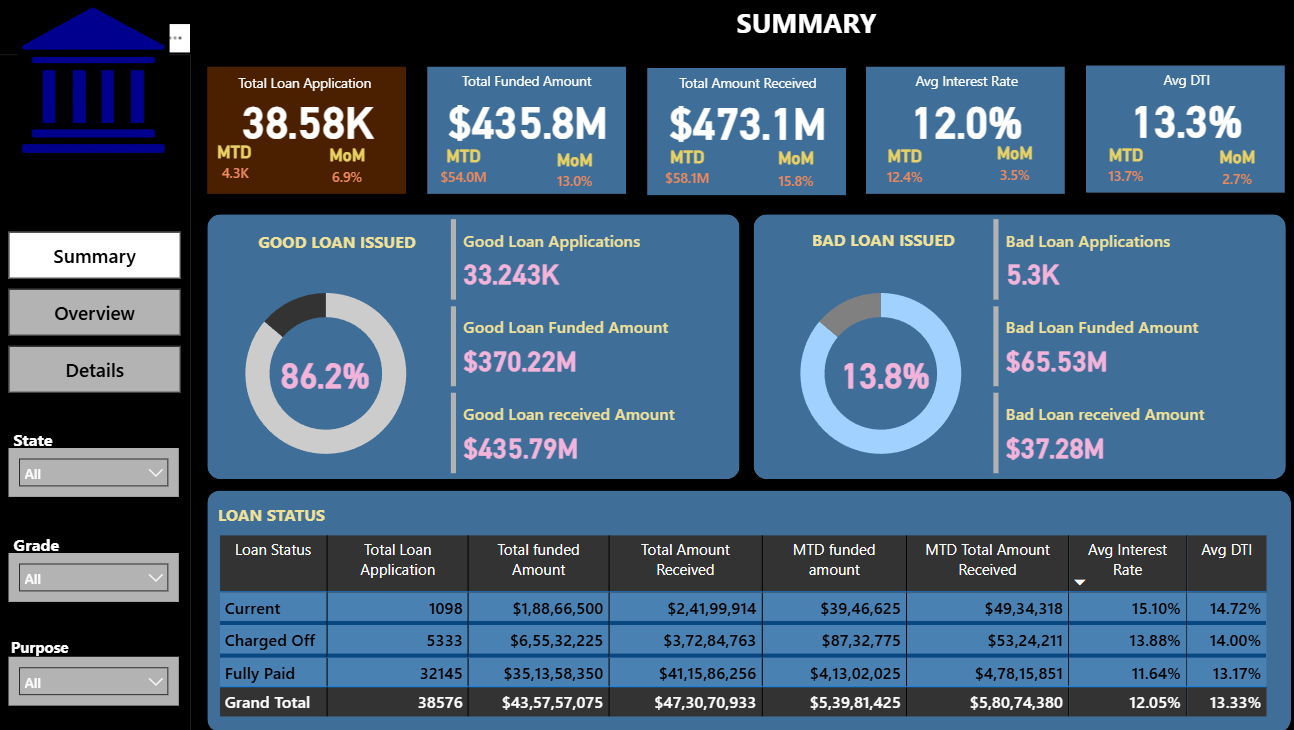

The dashboard page shown, as its layout file describes it:
{"tool":"powerbi","page":{"name":"Summary ","canvas":[1280,720],"ordinal":0},"visuals":[{"type":"shape","box":[0,0,1279.8,55],"z":0},{"type":"card","fields":{"Values":["financial_loan.Avg DTI"]},"box":[1071.1,89.6,195.1,55.2],"z":0,"group":"g4"},{"type":"card","fields":{"Values":["financial_loan.Avg Interest Rate"]},"box":[855.6,90.8,195.1,55.2],"z":0,"group":"g6"},{"type":"card","fields":{"Values":["financial_loan.Total Amount Received"]},"box":[640.1,92,195.1,55.2],"z":0,"group":"g7"},{"type":"slicer","fields":{"Values":["financial_loan.address_state"]},"box":[12.3,442.1,166.9,47.9],"z":0,"group":"g11"},{"type":"slicer","fields":{"Values":["financial_loan.grade"]},"box":[12.3,544.3,166.9,47.9],"z":0,"group":"g12"},{"type":"slicer","fields":{"Values":["financial_loan.purpose"]},"box":[12.3,646.6,166.9,47.9],"z":0,"group":"g13"},{"type":"textbox","box":[12.3,417.6,58.9,39.3],"z":1000,"group":"g11"},{"type":"textbox","box":[12.3,519.8,58.9,39.3],"z":1000,"group":"g12"},{"type":"slicer","fields":{"Values":["financial_loan.address_state"]},"box":[12.3,547.2,166.9,47.9],"z":1000},{"type":"textbox","box":[9.5,622,72.4,39.3],"z":1000,"group":"g13"},{"type":"shape","box":[1069.9,66.3,195.1,125.2],"z":2000,"group":"g10"},{"type":"textbox","box":[1071.1,66.3,195.1,31.9],"z":2000,"group":"g4"},{"type":"shape","box":[423.4,67.5,195.1,125.2],"z":2000,"group":"g2"},{"type":"shape","box":[854.4,67.5,195.1,125.2],"z":2000,"group":"g9"},{"type":"textbox","box":[855.3,67.5,195.1,31.9],"z":2000,"group":"g6"},{"type":"shape","box":[207.8,67.6,195.1,125.2],"z":2000,"group":"g3"},{"type":"shape","box":[638.9,68.7,195.1,125.2],"z":2000,"group":"g8"},{"type":"textbox","box":[639.5,68.7,195.1,31.9],"z":2000,"group":"g7"},{"type":"textbox","box":[12.3,522.7,58.9,39.3],"z":2000},{"type":"card","fields":{"Values":["financial_loan.Good Loan percentage"]},"box":[29.4,220.9,128.8,62.6],"z":3000},{"type":"shape","box":[0,55.2,191.4,665],"z":4000},{"type":"card","fields":{"Values":["financial_loan.Total funded Amount"]},"box":[424.6,90.8,195.1,55.2],"z":4000,"group":"g5"},{"type":"card","fields":{"Values":["financial_loan.Total Loan Application"]},"box":[209.1,90.9,195.1,55.2],"z":4000,"group":"g3"},{"type":"card","title":"MTD","fields":{"Values":["financial_loan.Avg MTD DTI"]},"box":[1081,143.7,56.4,47.9],"z":4000,"group":"g4"},{"type":"card","title":"MTD","fields":{"Values":["financial_loan.MTD  Avg Int Rate"]},"box":[863.7,144.9,56.4,47.9],"z":4000,"group":"g6"},{"type":"card","title":"MTD","fields":{"Values":["financial_loan.MTD Total Amount Received"]},"box":[648.8,146.1,56.4,47.9],"z":4000,"group":"g7"},{"type":"textbox","box":[402.5,1.2,500.6,54],"z":5000},{"type":"textbox","box":[423.7,67.5,195.1,31.9],"z":5000,"group":"g5"},{"type":"textbox","box":[203.9,69.4,198.8,31.9],"z":5000,"group":"g3"},{"type":"group","id":"g1","title":"Group 1","box":[203.9,67.6,200.3,125.2],"z":6000},{"type":"card","title":"MTD","fields":{"Values":["financial_loan.MTD Loan Applications"]},"box":[212.9,141.8,45.4,47.9],"z":6000,"group":"g3"},{"type":"card","title":"MoM","fields":{"Values":["financial_loan.MoM Avg Int Rate"]},"box":[974.8,141.9,51.5,49.1],"z":6000,"group":"g6"},{"type":"card","title":"MTD","fields":{"Values":["financial_loan.MTD funded amount"]},"box":[431.5,144.9,56.4,47.9],"z":6000,"group":"g5"},{"type":"card","title":"MoM","fields":{"Values":["financial_loan.MoM Avg DTI"]},"box":[1192.1,145.6,51.5,49.1],"z":6000,"group":"g4"},{"type":"card","title":"MoM","fields":{"Values":["financial_loan.MoM total received amount"]},"box":[759.9,147,49.1,44.2],"z":6000,"group":"g7"},{"type":"group","id":"g2","title":"Group 2","box":[423.4,67.5,196.3,128.2],"z":7000},{"type":"card","title":"MoM","fields":{"Values":["financial_loan.MoM Loan Application"]},"box":[313,143.7,63.8,44.2],"z":7000,"group":"g3"},{"type":"card","title":"MoM","fields":{"Values":["financial_loan.MoM total funded amount"]},"box":[542.6,147.9,51.5,47.9],"z":7000,"group":"g5"},{"type":"group","id":"g3","title":"Group 2","box":[203.9,67.6,200.3,125.2],"z":7002,"group":"g1"},{"type":"group","id":"g4","title":"Group 3","box":[1071.1,66.3,195.1,128.4],"z":7003,"group":"g10"},{"type":"group","id":"g5","title":"Group 3","box":[423.7,67.5,196,128.2],"z":7003,"group":"g2"},{"type":"group","id":"g6","title":"Group 3","box":[855.3,67.5,195.4,125.2],"z":7003,"group":"g9"},{"type":"group","id":"g7","title":"Group 3","box":[639.5,68.7,195.7,125.2],"z":7003,"group":"g8"},{"type":"group","id":"g8","title":"Group 2","box":[638.9,68.7,196.3,125.2],"z":8000},{"type":"group","id":"g9","title":"Group 2","box":[854.4,67.5,196.3,125.2],"z":9000},{"type":"group","id":"g10","title":"Group 2","box":[1069.9,66.3,196.3,128.4],"z":10000},{"type":"shape","box":[743.6,212.3,522.7,260.1],"z":11000},{"type":"textbox","box":[739.9,220.9,240.5,41.7],"z":12000},{"type":"donutChart","fields":{"Y":["financial_loan.Total Loan Application"],"Category":["financial_loan.Good vs Bad Loan "]},"box":[743.6,265,250.3,207.4],"z":13000},{"type":"card","fields":{"Values":["financial_loan.Bad Loan percentage"]},"box":[808.6,337.4,128.8,62.6],"z":14000},{"type":"cardVisual","fields":{"Data":["financial_loan.Bad Loan Applications","financial_loan.Bad Loan Funded Amount","financial_loan.Bad Loan received Amount"]},"box":[974.2,212.3,288.3,260.1],"z":15000},{"type":"shape","box":[207.4,483.4,1063.8,236.8],"z":16000},{"type":"tableEx","fields":{"Values":["financial_loan.loan_status","financial_loan.Total Loan Application","financial_loan.Total funded Amount","financial_loan.Total Amount Received","financial_loan.MTD funded amount","financial_loan.MTD Total Amount Received","financial_loan.Avg Interest Rate","financial_loan.Avg DTI"]},"box":[213.5,522.7,1040.5,197.5],"z":17000},{"type":"textbox","box":[198.8,490.8,143.6,31.9],"z":18000},{"type":"group","id":"g11","title":"Group 4","box":[12.3,417.6,166.9,72.4],"z":19000},{"type":"group","id":"g12","title":"Group 4","box":[12.3,519.8,166.9,72.4],"z":20000},{"type":"group","id":"g13","title":"Group 4","box":[9.5,622,169.7,72.5],"z":21000},{"type":"shape","box":[207.4,212.3,522.7,260.1],"z":22000},{"type":"cardVisual","fields":{"Data":["financial_loan.Good Loan Applications","financial_loan.Good Loan Funded Amount","financial_loan.Good Loan received Amount"]},"box":[441.7,212.3,288.3,260.1],"z":23000},{"type":"donutChart","fields":{"Y":["financial_loan.Total Loan Application"],"Category":["financial_loan.Good vs Bad Loan "]},"box":[198.8,265,250.3,207.4],"z":24000},{"type":"card","fields":{"Values":["financial_loan.Good Loan percentage"]},"box":[258.9,337.4,128.8,62.6],"z":25000},{"type":"textbox","box":[203.7,223.3,240.5,41.7],"z":26000},{"type":"image","box":[0,2.5,191.4,159.5],"z":26001},{"type":"pageNavigator","box":[12.3,229.4,169.3,158.3],"z":26002}]}

Visuals, with their boxes in screenshot pixels (x1, y1, x2, y2), scaled from the page's 1280x720 canvas onto the 1294x730 screenshot:
shape: detection(0, 0, 1293, 56)
card - financial_loan.Avg DTI: detection(1083, 91, 1280, 147)
card - financial_loan.Avg Interest Rate: detection(865, 92, 1062, 148)
card - financial_loan.Total Amount Received: detection(647, 93, 844, 149)
slicer - financial_loan.address_state: detection(12, 448, 181, 497)
slicer - financial_loan.grade: detection(12, 552, 181, 600)
slicer - financial_loan.purpose: detection(12, 656, 181, 704)
textbox: detection(12, 423, 72, 463)
textbox: detection(12, 527, 72, 567)
slicer - financial_loan.address_state: detection(12, 555, 181, 603)
textbox: detection(10, 631, 83, 670)
shape: detection(1082, 67, 1279, 194)
textbox: detection(1083, 67, 1280, 100)
shape: detection(428, 68, 625, 195)
shape: detection(864, 68, 1061, 195)
textbox: detection(865, 68, 1062, 101)
shape: detection(210, 69, 407, 195)
shape: detection(646, 70, 843, 197)
textbox: detection(646, 70, 844, 102)
textbox: detection(12, 530, 72, 570)
card - financial_loan.Good Loan percentage: detection(30, 224, 160, 287)
shape: detection(0, 56, 193, 729)
card - financial_loan.Total funded Amount: detection(429, 92, 626, 148)
card - financial_loan.Total Loan Application: detection(211, 92, 409, 148)
"MTD" card: detection(1093, 146, 1150, 194)
"MTD" card: detection(873, 147, 930, 195)
"MTD" card: detection(656, 148, 713, 197)
textbox: detection(407, 1, 913, 56)
textbox: detection(428, 68, 626, 101)
textbox: detection(206, 70, 407, 103)
"Group 1" group: detection(206, 69, 409, 195)
"MTD" card: detection(215, 144, 261, 192)
"MoM" card: detection(985, 144, 1038, 194)
"MTD" card: detection(436, 147, 493, 195)
"MoM" card: detection(1205, 148, 1257, 197)
"MoM" card: detection(768, 149, 818, 194)
"Group 2" group: detection(428, 68, 626, 198)
"MoM" card: detection(316, 146, 381, 191)
"MoM" card: detection(549, 150, 601, 199)
"Group 2" group: detection(206, 69, 409, 195)
"Group 3" group: detection(1083, 67, 1280, 197)
"Group 3" group: detection(428, 68, 626, 198)
"Group 3" group: detection(865, 68, 1062, 195)
"Group 3" group: detection(646, 70, 844, 197)
"Group 2" group: detection(646, 70, 844, 197)
"Group 2" group: detection(864, 68, 1062, 195)
"Group 2" group: detection(1082, 67, 1280, 197)
shape: detection(752, 215, 1280, 479)
textbox: detection(748, 224, 991, 266)
donutChart - financial_loan.Total Loan Application x financial_loan.Good vs Bad Loan : detection(752, 269, 1005, 479)
card - financial_loan.Bad Loan percentage: detection(817, 342, 948, 406)
cardVisual - financial_loan.Bad Loan Applications x financial_loan.Bad Loan Funded Amount: detection(985, 215, 1276, 479)
shape: detection(210, 490, 1285, 729)
tableEx - financial_loan.loan_status x financial_loan.Total Loan Application: detection(216, 530, 1268, 729)
textbox: detection(201, 498, 346, 530)
"Group 4" group: detection(12, 423, 181, 497)
"Group 4" group: detection(12, 527, 181, 600)
"Group 4" group: detection(10, 631, 181, 704)
shape: detection(210, 215, 738, 479)
cardVisual - financial_loan.Good Loan Applications x financial_loan.Good Loan Funded Amount: detection(447, 215, 738, 479)
donutChart - financial_loan.Total Loan Application x financial_loan.Good vs Bad Loan : detection(201, 269, 454, 479)
card - financial_loan.Good Loan percentage: detection(262, 342, 392, 406)
textbox: detection(206, 226, 449, 269)
image: detection(0, 3, 193, 164)
pageNavigator: detection(12, 233, 184, 393)
